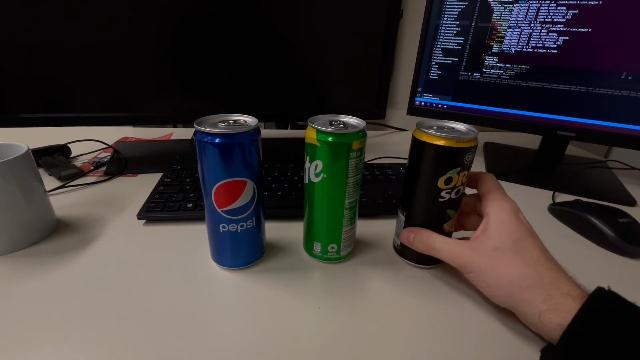OranSoda: (391, 117, 481, 272)
Pepsi: (192, 111, 270, 273)
Sprite: (298, 113, 369, 265)
